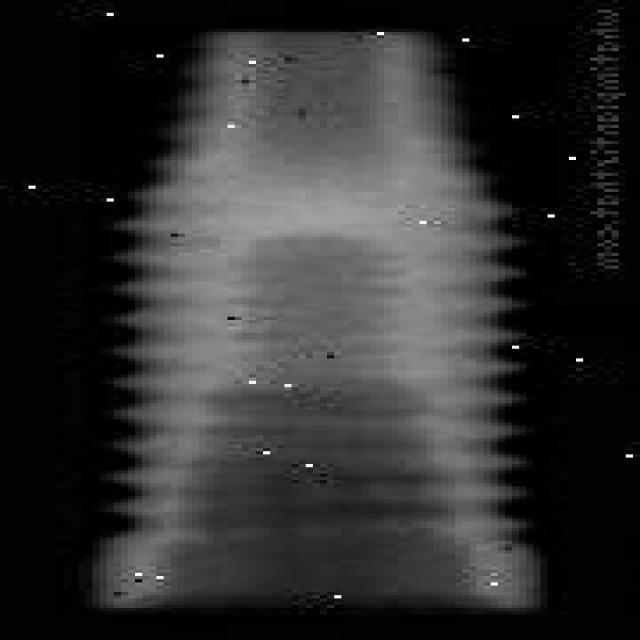Retained root: (85, 26, 555, 611)
